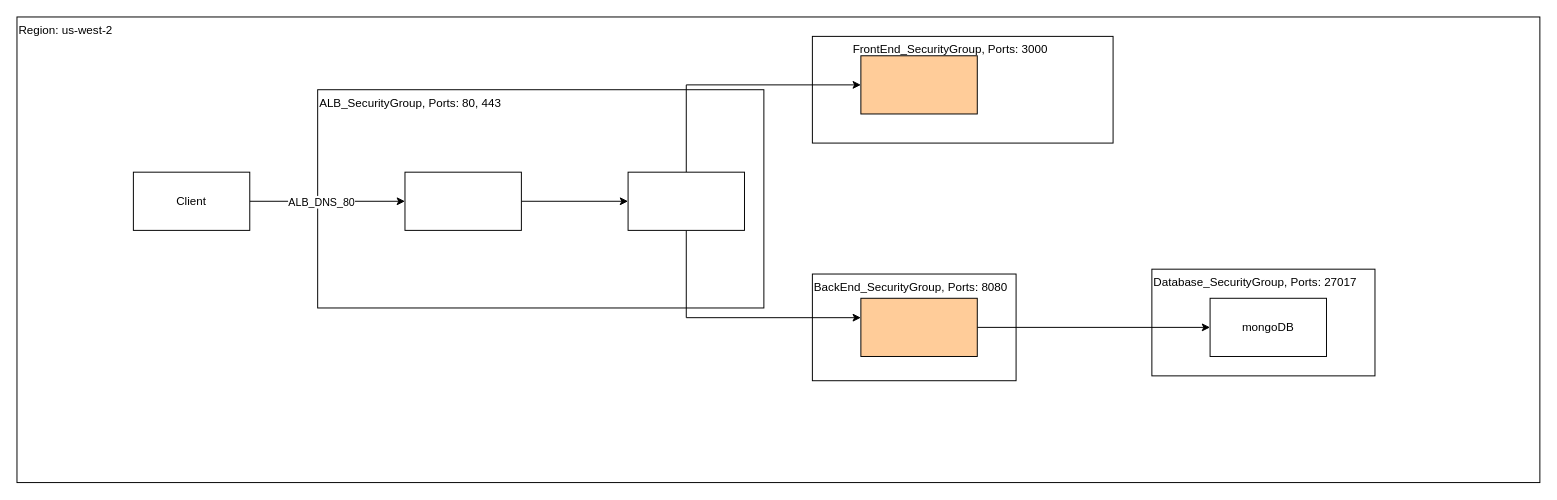
The diagram is 1557 pixels wide and 500 high, and some of its shapes have lost their labels. Here are the shapes that lost their labels. From the top down, the centre of each, then its label:
point 918,84: frontend_tg:3000
point 462,200: Listener:80
point 685,200: ALB
point 918,326: backend_tg:8080
